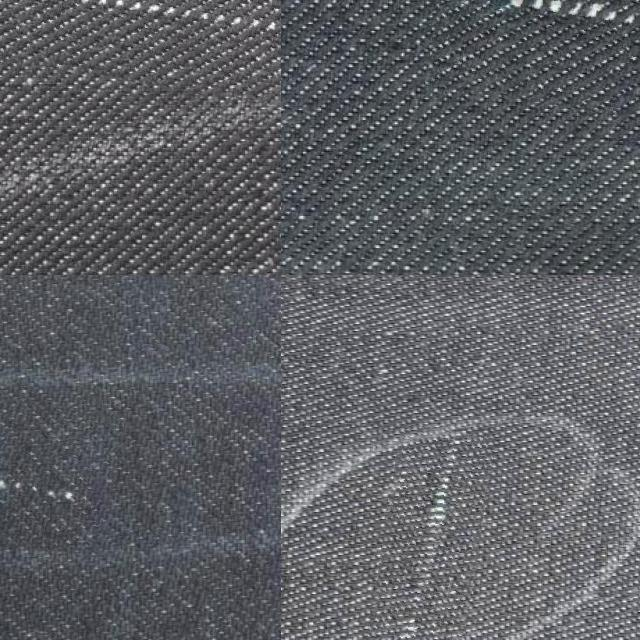stains: (427, 0, 640, 121), (374, 425, 486, 640), (0, 384, 119, 548)
